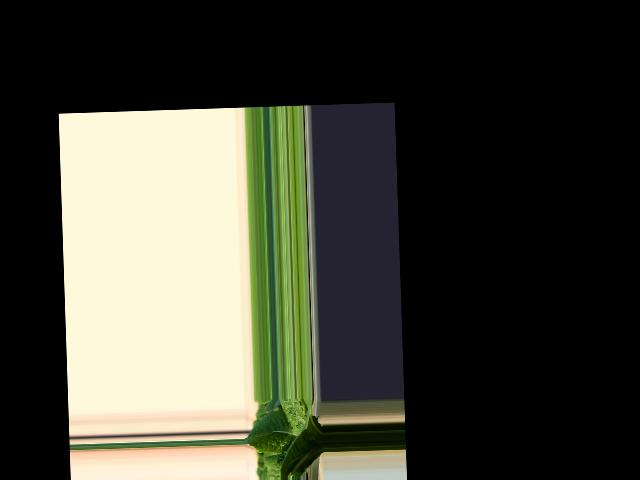lettuce: (250, 405, 324, 476)
